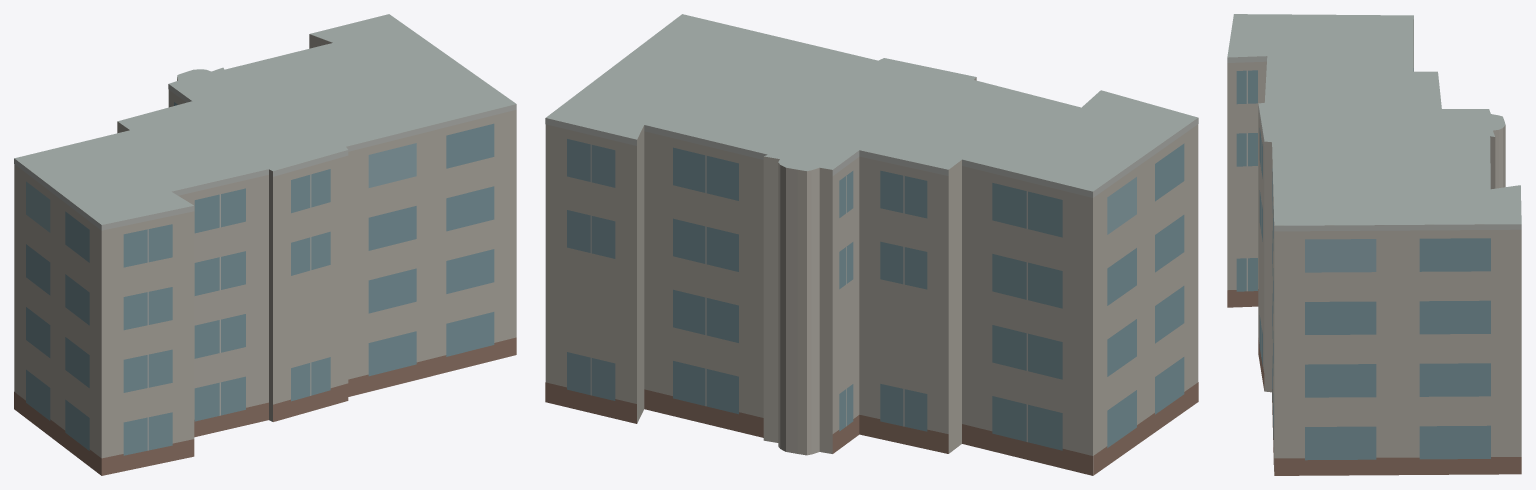
File: survey-upis-32823791.glb
3 renders of one model, left to right at view 1: azimuth 30°, elevation 25°; view 2: azimuth 150°, elevation 25°; view 3: azimuth 270°, elevation 25°, orthographic. The views are drawn at different scales.
Parts seen in each view (by area): view 1: survey-upis-32823791.tmp; view 2: survey-upis-32823791.tmp; view 3: survey-upis-32823791.tmp.
Boxes of the visible parts, left/top/right/bottom form: survey-upis-32823791.tmp: left=14, top=14, right=516, bottom=475; survey-upis-32823791.tmp: left=545, top=14, right=1198, bottom=475; survey-upis-32823791.tmp: left=1227, top=14, right=1521, bottom=475.
Size of the model in its own units: 19.8 by 10.9 by 11.64.
